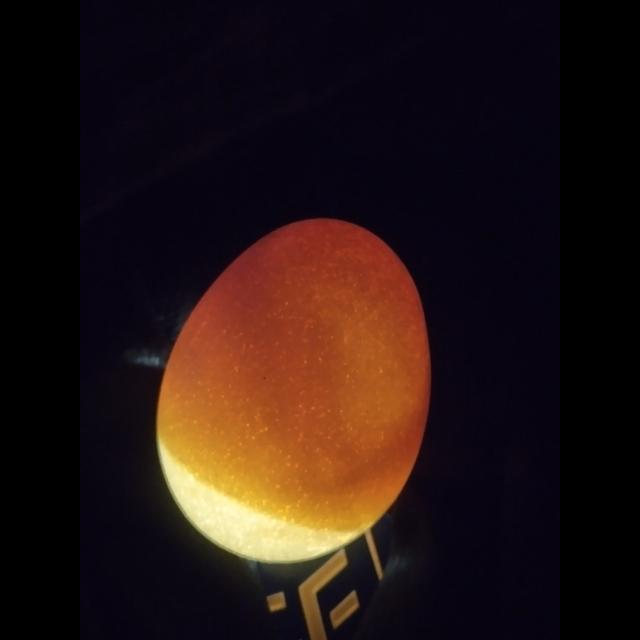Infertile: (152, 220, 446, 562)
